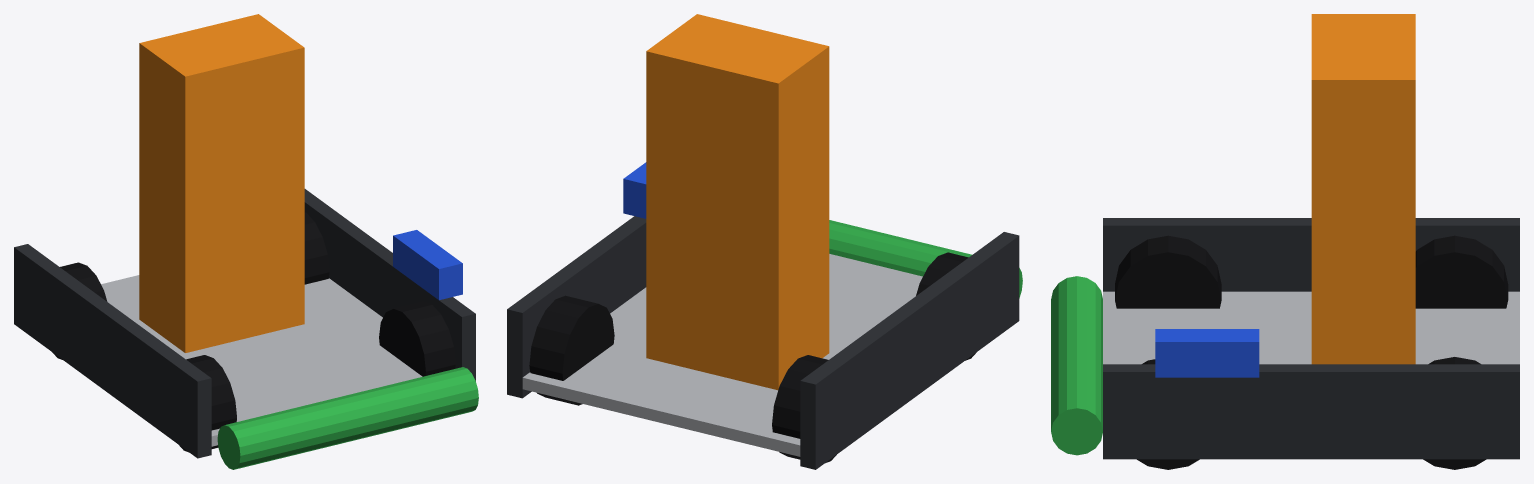
The model's file is robot.glb.
The picture shows the model from 3 angles, left to right: view 1: azimuth 30°, elevation 25°; view 2: azimuth 150°, elevation 25°; view 3: azimuth 270°, elevation 25°; orthographic projection. The views are drawn at different scales.
Visible parts, largest first — view 1: tower, rail_right, belly, intake, rail_left, wheel_5.5_5.5, flag, wheel_5.5_-5.5, wheel_-5.5_5.5, wheel_-5.5_-5.5; view 2: tower, rail_right, belly, rail_left, wheel_-5.5_5.5, intake, wheel_-5.5_-5.5, flag, wheel_5.5_-5.5; view 3: rail_left, tower, belly, rail_right, intake, wheel_5.5_-5.5, wheel_-5.5_-5.5, flag, wheel_-5.5_5.5, wheel_5.5_5.5.
Part boxes in pixels (left/top/right/bottom): tower: left=139, top=14, right=304, bottom=352; rail_right: left=14, top=244, right=211, bottom=458; belly: left=101, top=275, right=422, bottom=446; intake: left=217, top=367, right=478, bottom=469; rail_left: left=304, top=189, right=475, bottom=381; wheel_5.5_5.5: left=379, top=301, right=455, bottom=376; flag: left=393, top=230, right=462, bottom=300; wheel_5.5_-5.5: left=179, top=355, right=236, bottom=452; wheel_-5.5_5.5: left=304, top=212, right=329, bottom=284; wheel_-5.5_-5.5: left=52, top=262, right=107, bottom=359; tower: left=646, top=14, right=829, bottom=390; rail_right: left=800, top=232, right=1019, bottom=469; belly: left=522, top=254, right=922, bottom=456; rail_left: left=507, top=216, right=646, bottom=398; wheel_-5.5_5.5: left=529, top=295, right=614, bottom=405; intake: left=829, top=220, right=1022, bottom=298; wheel_-5.5_-5.5: left=772, top=355, right=836, bottom=463; flag: left=623, top=162, right=646, bottom=218; wheel_5.5_-5.5: left=916, top=252, right=976, bottom=360; rail_left: left=1103, top=364, right=1519, bottom=459; tower: left=1311, top=14, right=1415, bottom=364; belly: left=1103, top=291, right=1519, bottom=364; rail_right: left=1103, top=218, right=1519, bottom=291; intake: left=1051, top=276, right=1102, bottom=455; wheel_5.5_-5.5: left=1115, top=235, right=1221, bottom=308; wheel_-5.5_-5.5: left=1415, top=235, right=1508, bottom=308; flag: left=1155, top=329, right=1259, bottom=377; wheel_-5.5_5.5: left=1423, top=357, right=1486, bottom=469; wheel_5.5_5.5: left=1137, top=359, right=1199, bottom=469.
Bounding box in the file's own units: 0.3683 × 0.381 × 0.4572.
